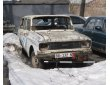License Plates: (54, 51, 74, 57)
